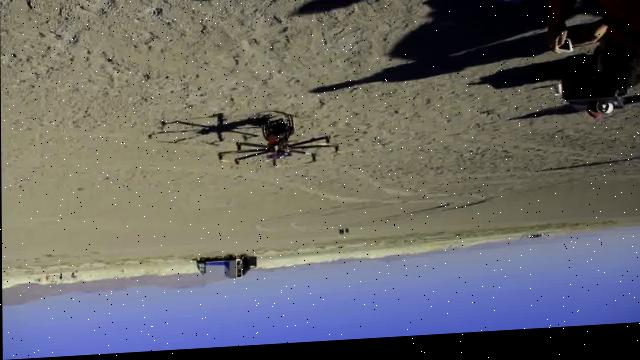drone: (216, 115, 346, 175)
